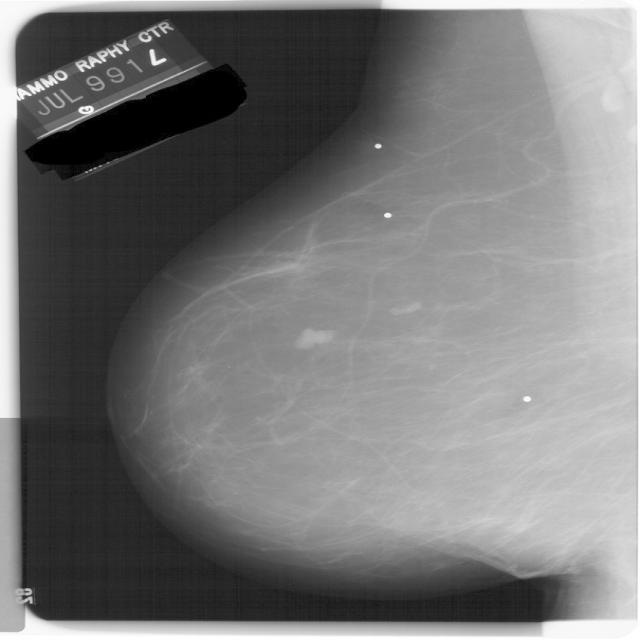tumour: (292, 328, 336, 351)
